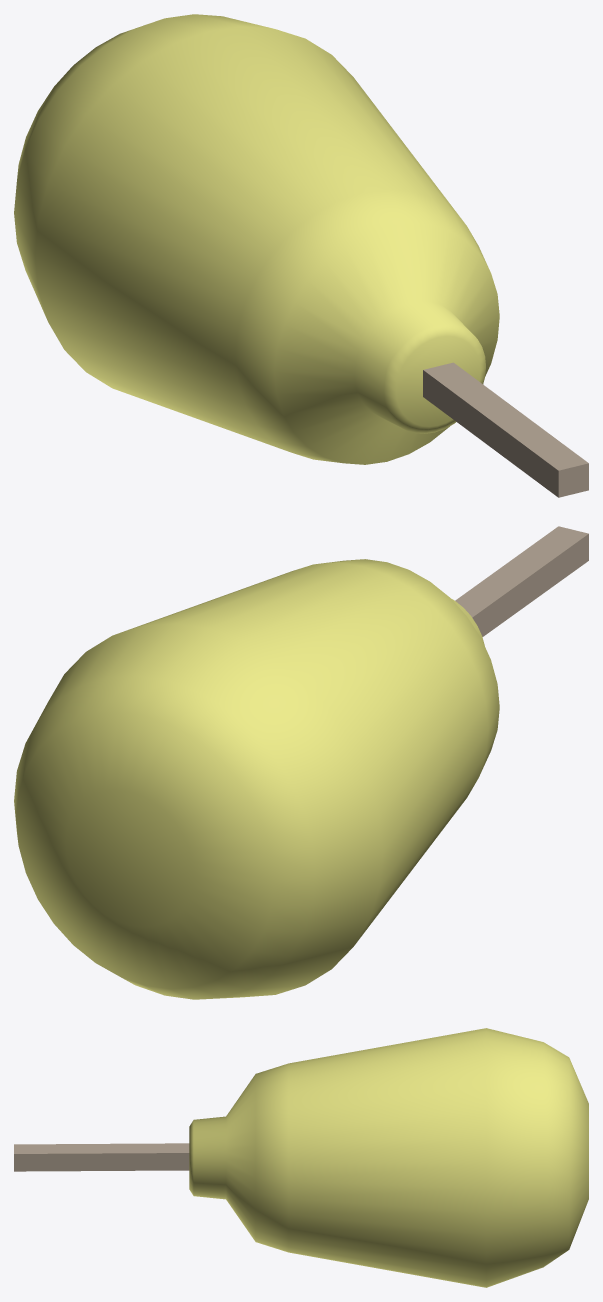
The model's file is CornDog.fbx.
The picture shows the model from 3 angles, top to bottom: view 1: azimuth 30°, elevation 25°; view 2: azimuth 150°, elevation 25°; view 3: azimuth 270°, elevation 25°; orthographic projection. The views are drawn at different scales.
Visible parts, largest first — view 1: 円柱; view 2: 円柱; view 3: 円柱.
Boxes of the visible parts, <box> form: 円柱: <box>14,14,588,497</box>; 円柱: <box>14,526,588,999</box>; 円柱: <box>14,1028,588,1287</box>.
Bounding box in the file's own units: 200 × 200 × 442.
